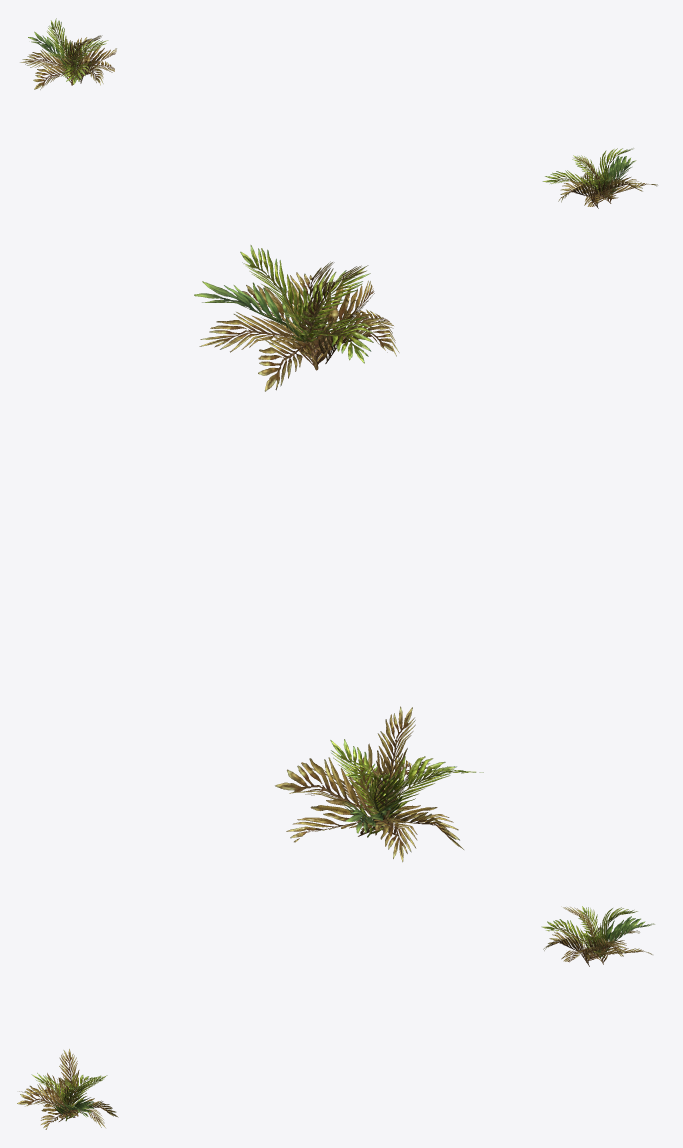
File: S_Plant_Yellow016_A.FBX
The picture shows the model from 3 angles, top to bottom: view 1: azimuth 30°, elevation 25°; view 2: azimuth 150°, elevation 25°; view 3: azimuth 270°, elevation 25°; orthographic projection. The views are drawn at different scales.
Visible parts, largest first — view 1: S_Plant_Yellow016_001, S_Plant_Yellow016_002; view 2: S_Plant_Yellow016_002, S_Plant_Yellow016_001; view 3: S_Plant_Yellow016_001, S_Plant_Yellow016_002.
Part boxes in pixels (x1=…): S_Plant_Yellow016_001: x1=20, y1=18, x2=116, y2=89; S_Plant_Yellow016_002: x1=542, y1=148, x2=657, y2=208; S_Plant_Yellow016_002: x1=194, y1=245, x2=399, y2=391; S_Plant_Yellow016_001: x1=275, y1=706, x2=483, y2=862; S_Plant_Yellow016_001: x1=541, y1=906, x2=654, y2=966; S_Plant_Yellow016_002: x1=17, y1=1049, x2=118, y2=1129.
Size of the model in its own units: 2359 by 407 by 3263.
